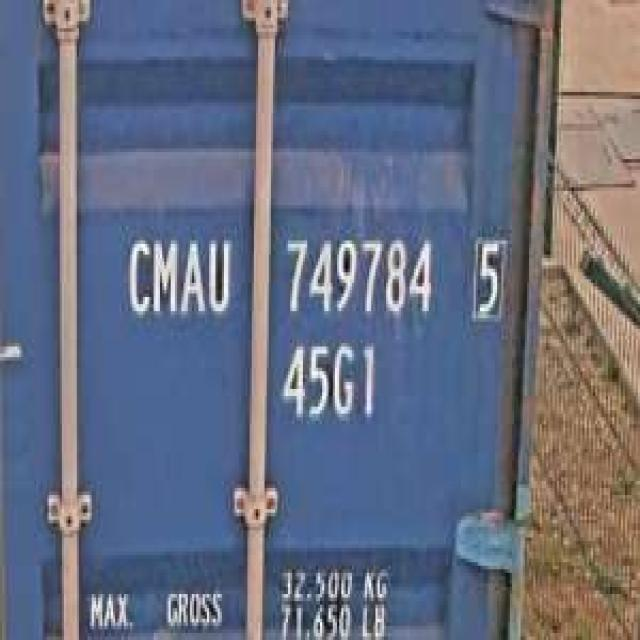dv: (465, 227, 510, 326)
owner: (122, 227, 235, 326)
serial: (278, 226, 438, 322)
size: (277, 332, 382, 428)
